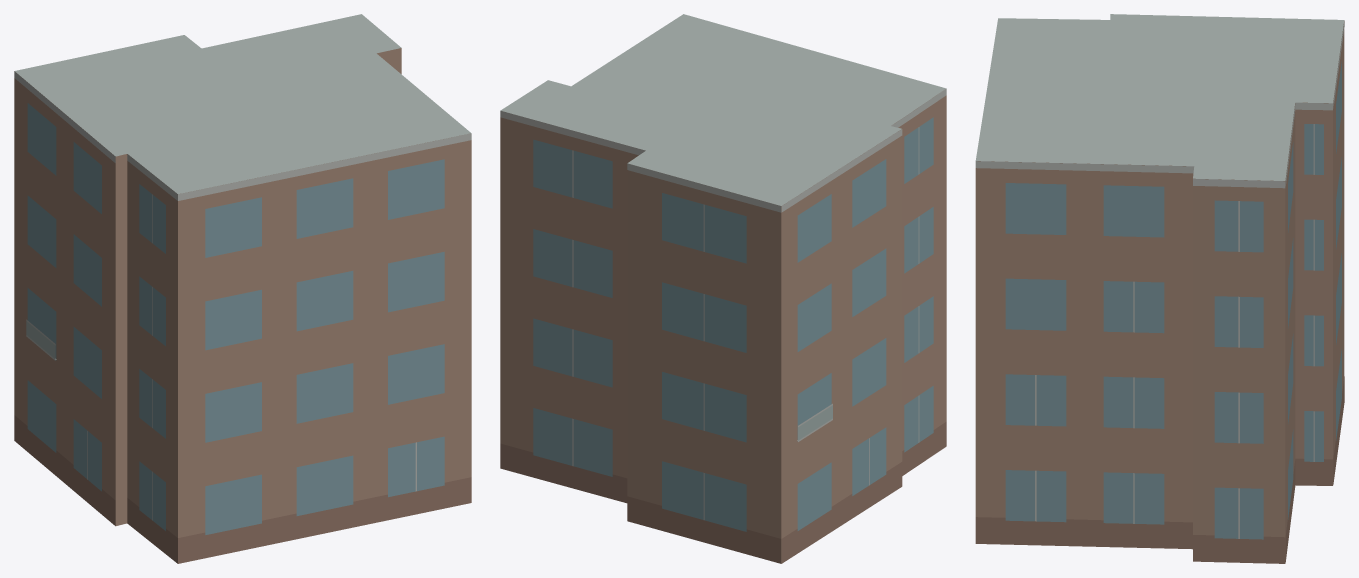
The model's file is survey-upis-32463999.glb.
3 views of the same model, side by side, from view 1: azimuth 30°, elevation 25°; view 2: azimuth 150°, elevation 25°; view 3: azimuth 270°, elevation 25° (orthographic). The views are drawn at different scales.
Visible parts, largest first — view 1: survey-upis-32463999.tmp; view 2: survey-upis-32463999.tmp; view 3: survey-upis-32463999.tmp.
Part boxes in pixels (x1=…): survey-upis-32463999.tmp: x1=14, y1=14, x2=471, y2=563; survey-upis-32463999.tmp: x1=500, y1=14, x2=946, y2=563; survey-upis-32463999.tmp: x1=975, y1=14, x2=1344, y2=563.
Bounding box in the file's own units: 12.27 × 13.1 × 11.45.
